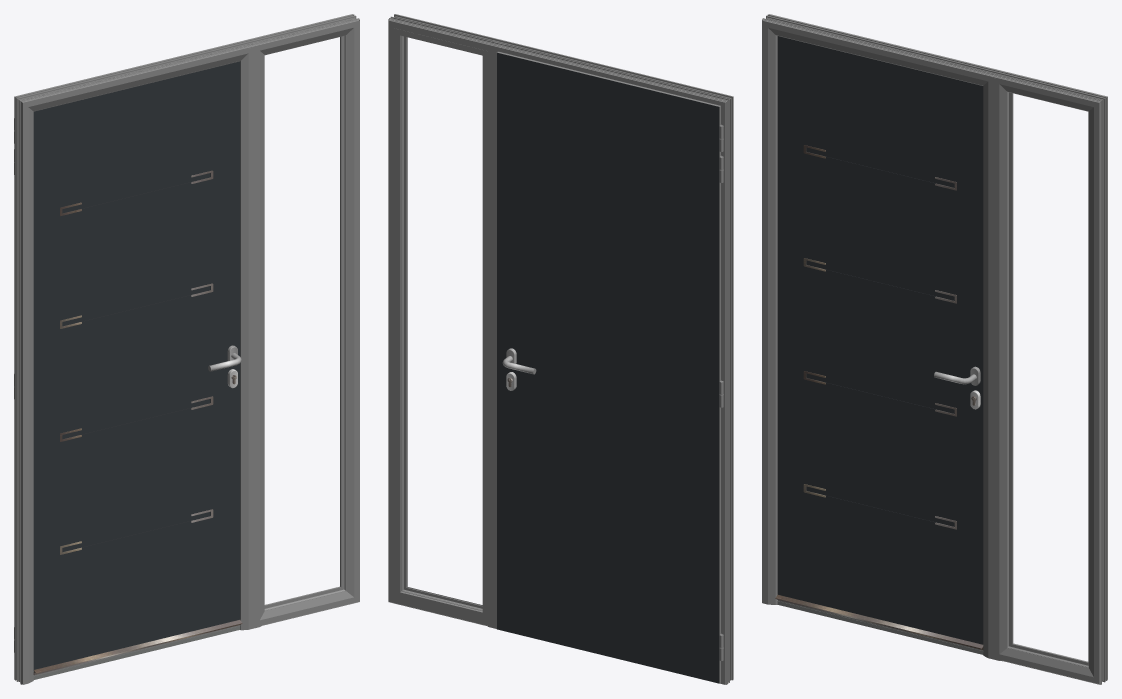
3 views of the same model, side by side, from view 1: azimuth 30°, elevation 25°; view 2: azimuth 150°, elevation 25°; view 3: azimuth 330°, elevation 25° (orthographic).
Visible parts, largest first — view 1: bloco_127, Rectangle002, Line004, Object, Object001, Line005, alunox_078, Rectangle005, Rectangle003; view 2: bloco_127, Rectangle002, Rectangle003, Line004, Object001, Rectangle004, Object; view 3: bloco_127, Rectangle002, Line004, Object001, Object, Line005, Rectangle003, alunox_078, Rectangle005.
Part boxes in pixels (bbox=[...]): bloco_127: bbox=[33, 61, 240, 671]; Rectangle002: bbox=[14, 14, 359, 684]; Line004: bbox=[240, 46, 264, 630]; Object: bbox=[33, 35, 346, 680]; Object001: bbox=[264, 36, 344, 608]; Line005: bbox=[33, 620, 242, 674]; alunox_078: bbox=[60, 170, 213, 554]; Rectangle005: bbox=[33, 625, 240, 679]; Rectangle003: bbox=[264, 37, 340, 605]; bloco_127: bbox=[497, 52, 719, 683]; Rectangle002: bbox=[388, 14, 733, 684]; Rectangle003: bbox=[394, 28, 487, 619]; Line004: bbox=[488, 41, 504, 628]; Object001: bbox=[401, 36, 482, 610]; Rectangle004: bbox=[496, 51, 720, 683]; Object: bbox=[404, 36, 482, 608]; bloco_127: bbox=[777, 36, 983, 644]; Rectangle002: bbox=[762, 14, 1107, 684]; Line004: bbox=[983, 77, 1007, 661]; Object001: bbox=[1007, 92, 1088, 665]; Object: bbox=[776, 35, 1088, 667]; Line005: bbox=[775, 595, 983, 649]; Rectangle003: bbox=[1012, 93, 1087, 662]; alunox_078: bbox=[803, 145, 956, 529]; Rectangle005: bbox=[777, 600, 983, 654].
Bounding box in the file's own units: 1307 × 2150 × 192.
Materials: 6 (4 with a texture image).
